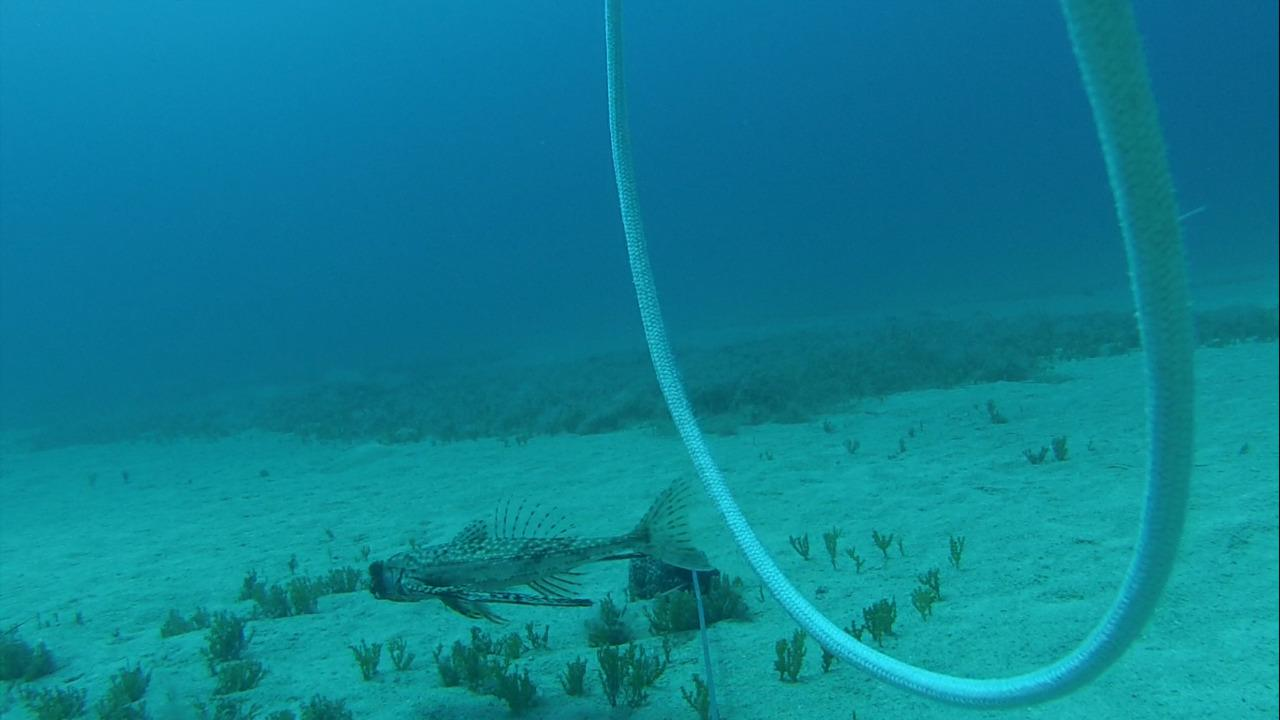dactylopterus: (342, 460, 713, 626)
